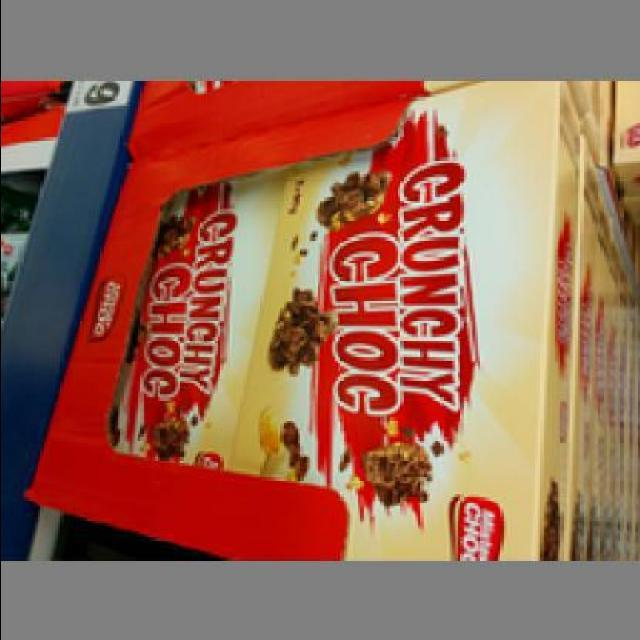Chocolate bar: (249, 80, 586, 560), (106, 134, 294, 474)
